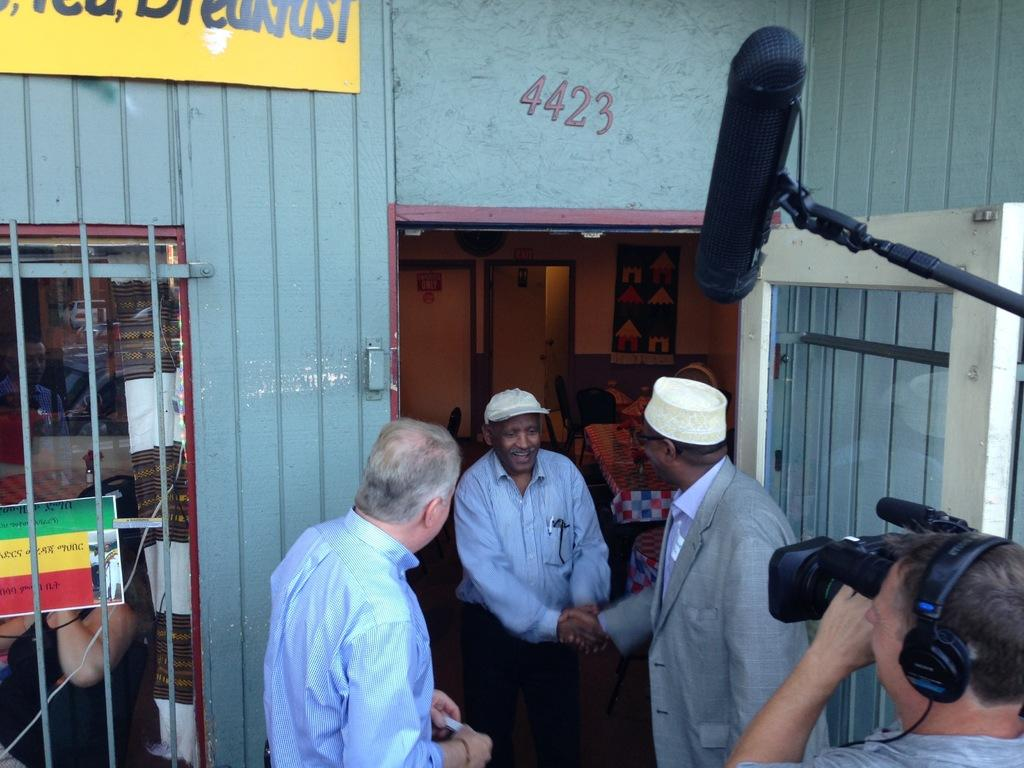Hat: (484, 385, 550, 425)
